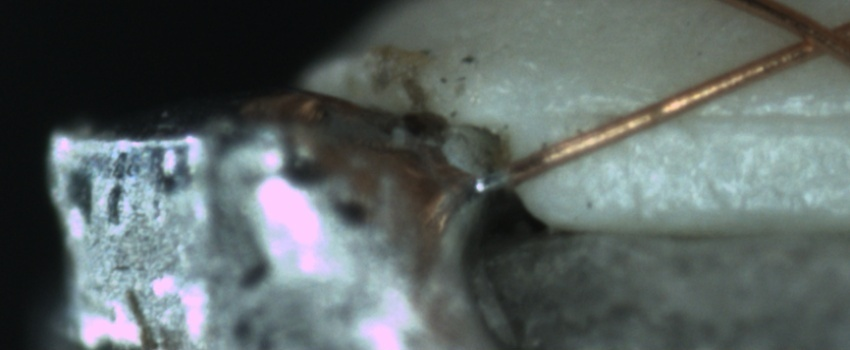CL: (769, 3, 849, 69)
DL: (567, 82, 844, 153)
TS: (475, 162, 511, 195)
